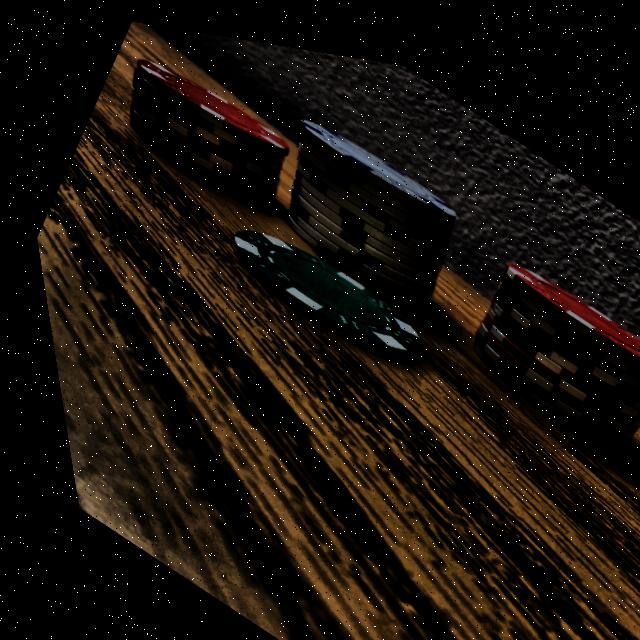Chip: (228, 67, 492, 332), (424, 193, 640, 475), (195, 188, 436, 384), (94, 29, 310, 226)
